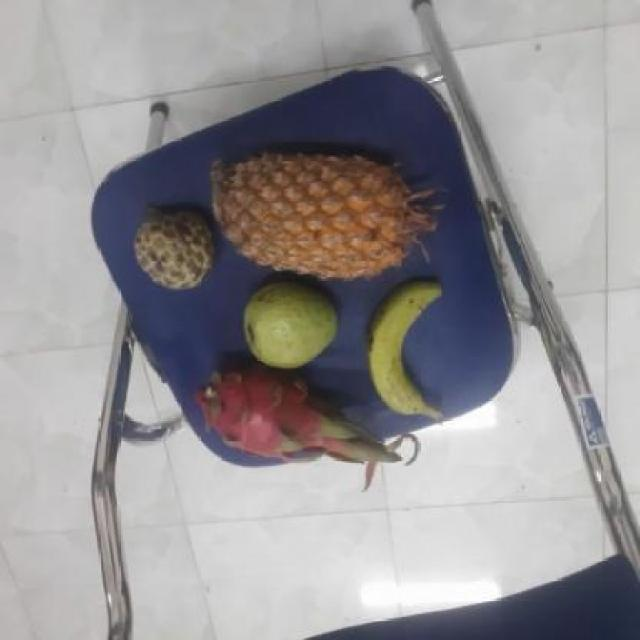dragon fruit: (204, 361, 344, 462)
guava: (241, 277, 344, 368)
pineapple: (213, 153, 427, 279)
sugar apple: (134, 205, 220, 288)
